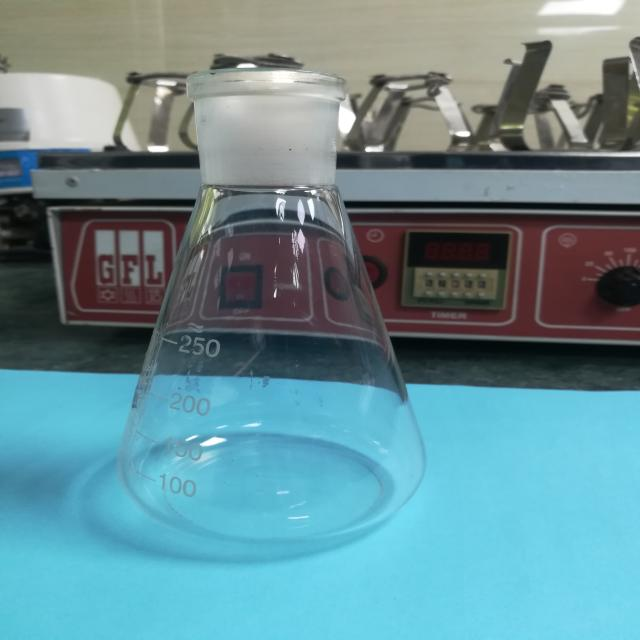Conical_Flask: (90, 34, 468, 564)
